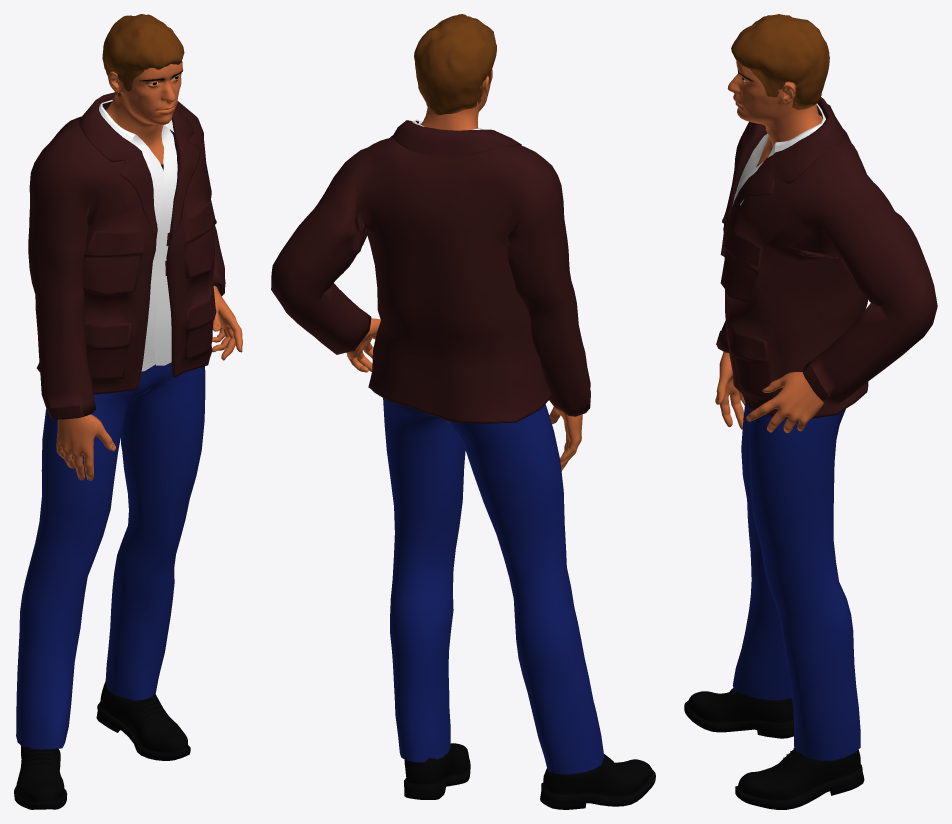
File: male01.fbx
The picture shows the model from 3 angles, left to right: view 1: azimuth 30°, elevation 25°; view 2: azimuth 150°, elevation 25°; view 3: azimuth 270°, elevation 25°; orthographic projection. The views are drawn at different scales.
Parts seen in each view (by area): view 1: male_casualsuit05_obj, Object001, male_generic_obj, shoes03_obj, Object002, short02_obj; view 2: male_casualsuit05_obj, Object001, shoes03_obj, short02_obj, male_generic_obj; view 3: male_casualsuit05_obj, Object001, shoes03_obj, male_generic_obj, short02_obj, Object002.
Boxes of the visible parts, box(x1,y1,x2,y2) form: male_casualsuit05_obj: box(28, 92, 225, 419); Object001: box(16, 362, 205, 749); male_generic_obj: box(56, 65, 242, 480); shoes03_obj: box(14, 680, 190, 809); Object002: box(99, 100, 177, 371); short02_obj: box(102, 14, 184, 96); male_casualsuit05_obj: box(271, 120, 590, 423); Object001: box(383, 398, 604, 774); shoes03_obj: box(404, 743, 655, 809); short02_obj: box(414, 14, 496, 114); male_generic_obj: box(346, 69, 582, 470); male_casualsuit05_obj: box(716, 97, 937, 418); Object001: box(732, 403, 860, 760); shoes03_obj: box(684, 688, 864, 809); male_generic_obj: box(715, 61, 824, 433); short02_obj: box(731, 14, 829, 109); Object002: box(732, 103, 825, 205).
Bounding box in the file's own units: 27.05 × 71.3 × 21.21.
